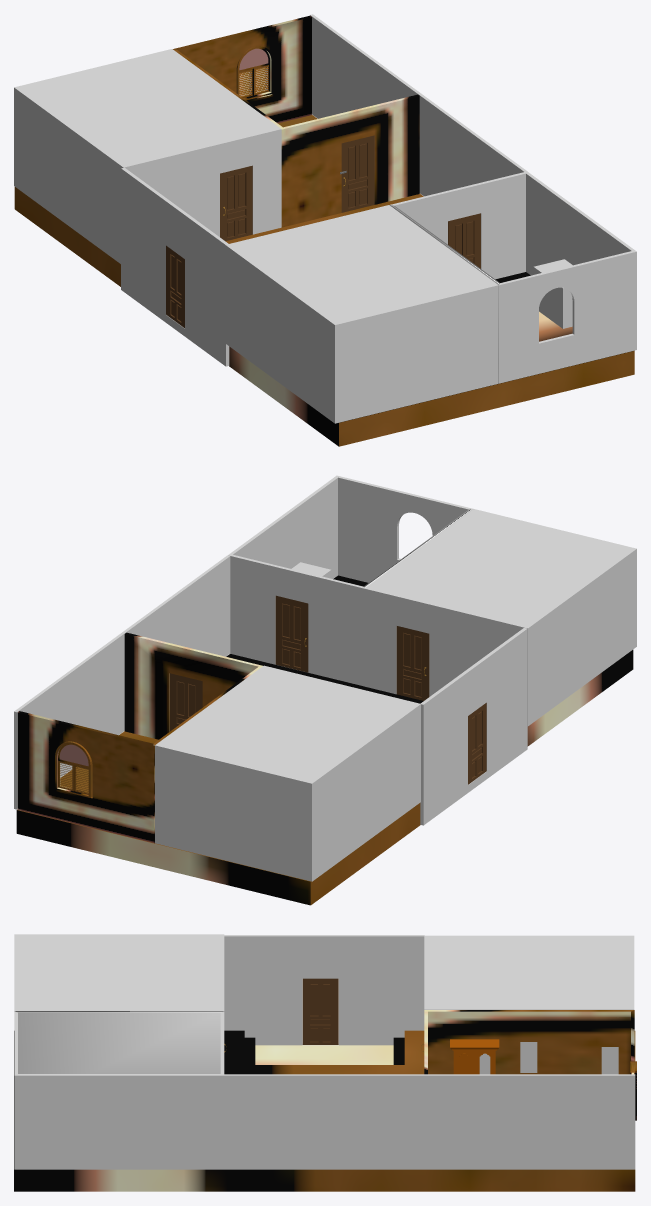
Rendered from MainLevel 1.fbx.
The picture shows the model from 3 angles, top to bottom: view 1: azimuth 30°, elevation 25°; view 2: azimuth 150°, elevation 25°; view 3: azimuth 270°, elevation 25°; orthographic projection. The views are drawn at different scales.
Parts seen in each view (by area): view 1: Cube.003, Cube, Wall.002, Wall.001, Wall.035, Cube.004, Cube.002, Wall.080, Wall.093, Cube.006, Wall.076, Wall.096; view 2: Cube, Cube.003, Wall.002, Wall.001, Wall.035, Cube.004, Cube.002, Wall.076, Wall.092, Wall.080, Wall.096, Wall.003; view 3: Cube.002, Wall.002, Wall.035, Cube.004, Cube.003, Cube, Wall.001, Wall.096, Wall.079, Plane, Plane.001.
Part boxes in pixels (x1=…): Cube.003: x1=225, y1=205, x2=498, y2=423; Cube: x1=14, y1=49, x2=281, y2=263; Wall.002: x1=389, y1=171, x2=636, y2=383; Wall.001: x1=173, y1=15, x2=419, y2=227; Wall.035: x1=14, y1=115, x2=634, y2=446; Cube.004: x1=121, y1=167, x2=229, y2=366; Cube.002: x1=310, y1=14, x2=526, y2=196; Wall.080: x1=341, y1=135, x2=374, y2=212; Wall.093: x1=220, y1=165, x2=252, y2=241; Cube.006: x1=533, y1=259, x2=572, y2=328; Wall.076: x1=448, y1=213, x2=480, y2=268; Wall.096: x1=166, y1=245, x2=184, y2=327; Cube: x1=155, y1=665, x2=420, y2=881; Cube.003: x1=365, y1=509, x2=636, y2=726; Wall.002: x1=228, y1=475, x2=473, y2=686; Wall.001: x1=17, y1=632, x2=262, y2=843; Wall.035: x1=16, y1=575, x2=633, y2=905; Cube.004: x1=420, y1=628, x2=527, y2=825; Cube.002: x1=14, y1=555, x2=230, y2=809; Wall.076: x1=275, y1=595, x2=308, y2=672; Wall.092: x1=396, y1=626, x2=429, y2=700; Wall.080: x1=170, y1=673, x2=202, y2=731; Wall.096: x1=468, y1=703, x2=486, y2=784; Wall.003: x1=55, y1=741, x2=92, y2=797; Cube.002: x1=224, y1=1074, x2=635, y2=1169; Wall.002: x1=14, y1=1011, x2=224, y2=1169; Wall.035: x1=14, y1=1030, x2=635, y2=1191; Cube.004: x1=224, y1=935, x2=424, y2=1045; Cube.003: x1=14, y1=934, x2=224, y2=1010; Cube: x1=424, y1=935, x2=634, y2=1009; Wall.001: x1=424, y1=1010, x2=634, y2=1074; Wall.096: x1=302, y1=978, x2=338, y2=1044; Wall.079: x1=450, y1=1039, x2=499, y2=1074; Plane: x1=520, y1=1042, x2=537, y2=1072; Plane.001: x1=601, y1=1047, x2=618, y2=1074.
Bounding box in the file's own units: 7827 × 3029 × 14597.
